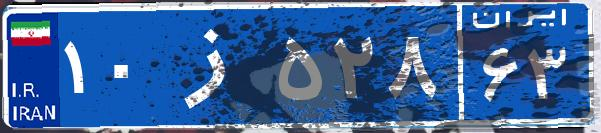0: (110, 28, 158, 105)
1: (57, 26, 110, 107)
2: (330, 28, 385, 110)
3: (525, 38, 570, 115)
5: (273, 28, 330, 110)
6: (475, 38, 525, 113)
8: (385, 28, 445, 110)
ز: (158, 15, 273, 115)
